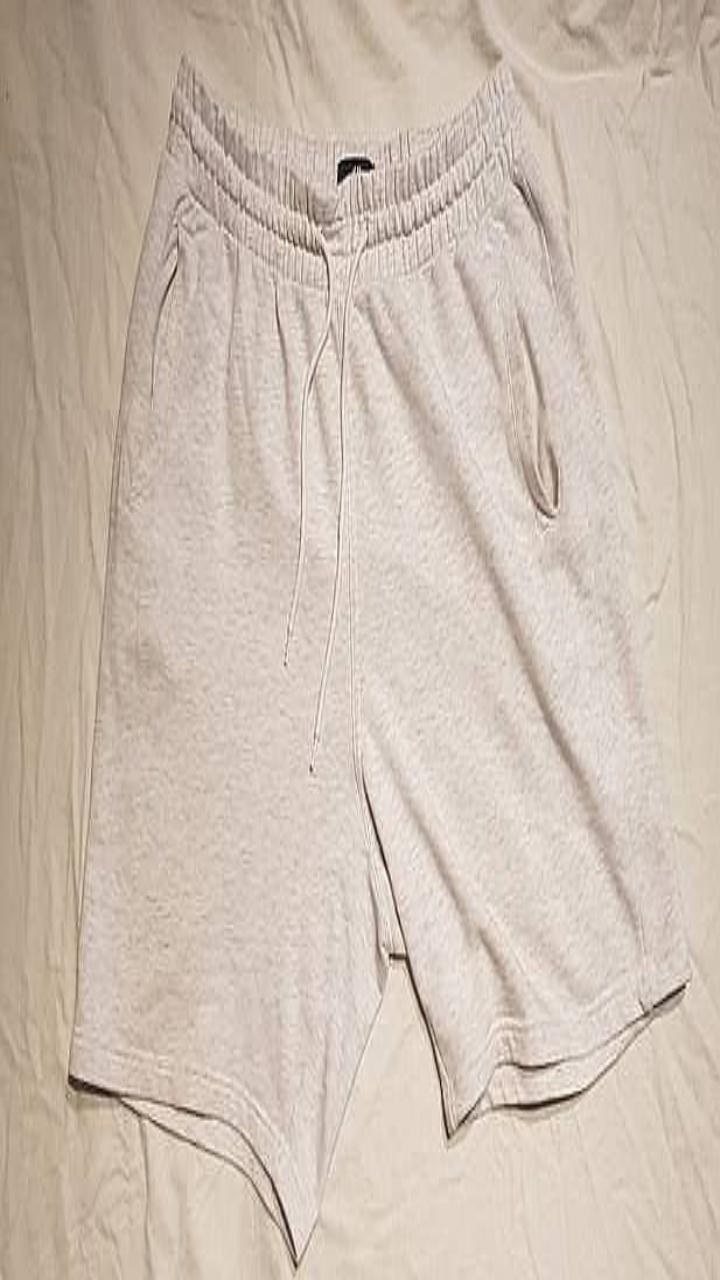Shorts: (69, 59, 689, 1261)
